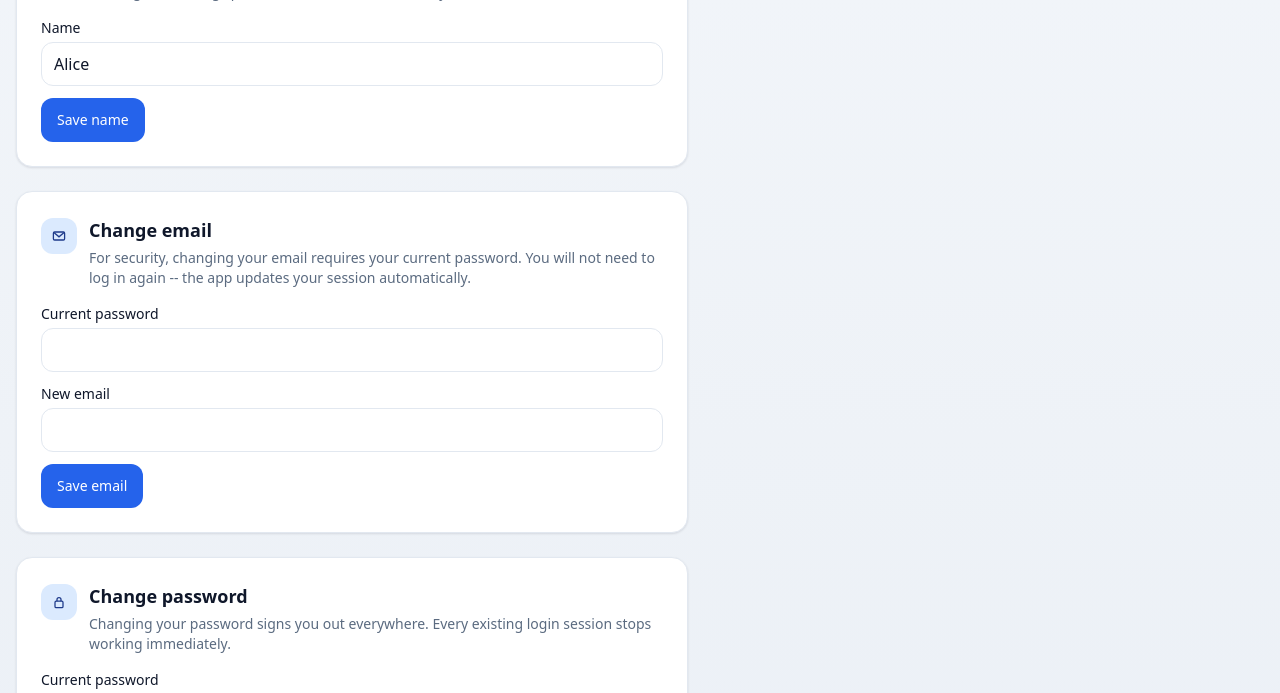
Test: ProfilePage › shows a distinct error for an incorrect current password on email change, and keeps the old session
(page scrolled)
Type "wrong-password" into the password field labelled "Current password" below "Change email" at [352, 350], box [41, 328, 663, 372]
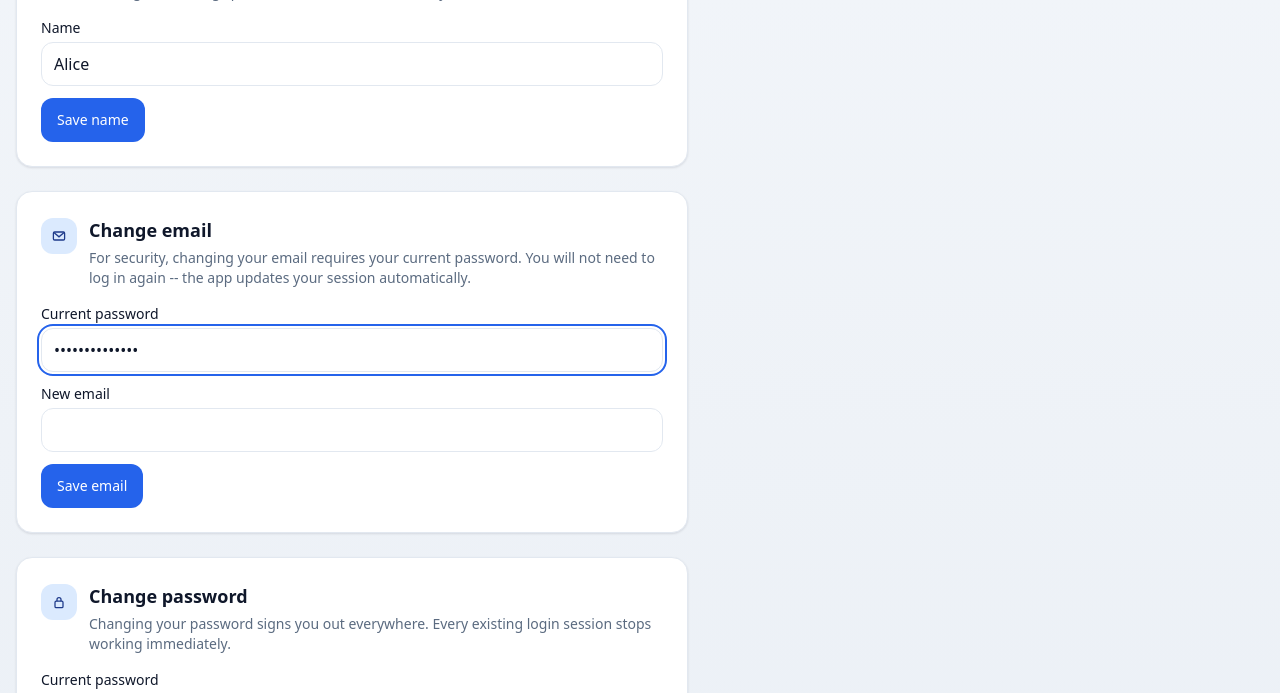
Type "new@example.com" into the field labelled "New email" at [352, 430], box [41, 408, 663, 452]
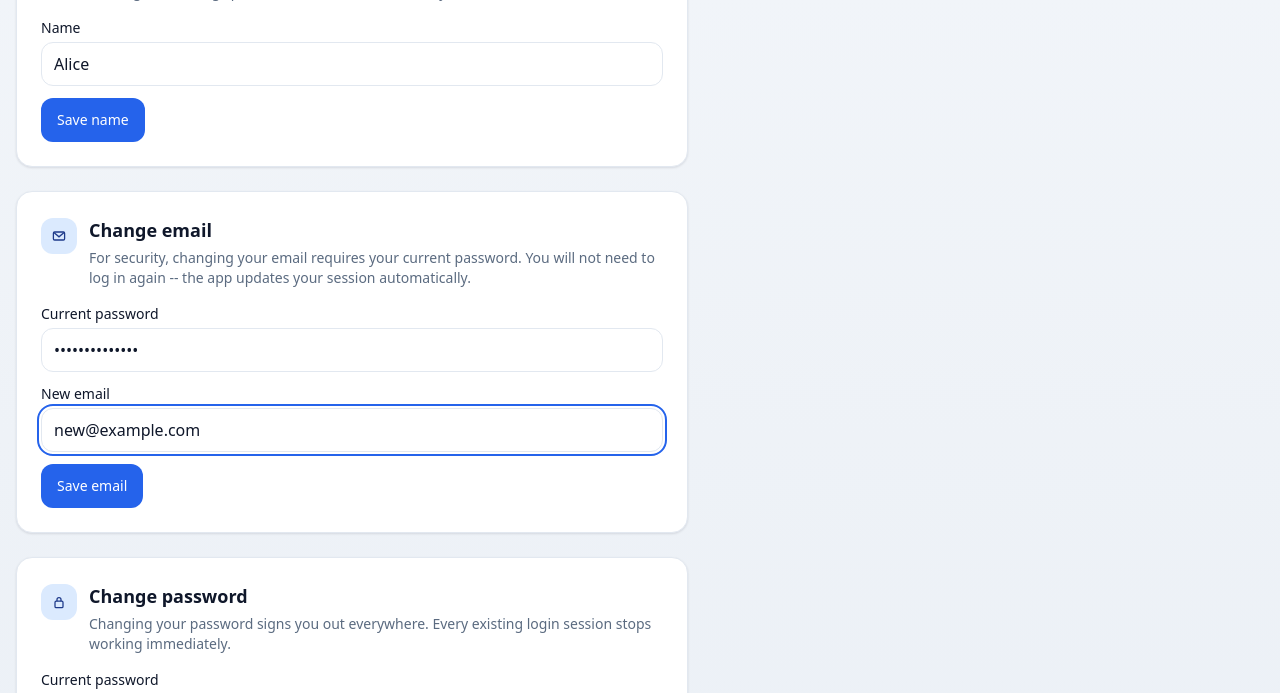
Click the button "Save email" at [92, 486], box [41, 464, 143, 508]
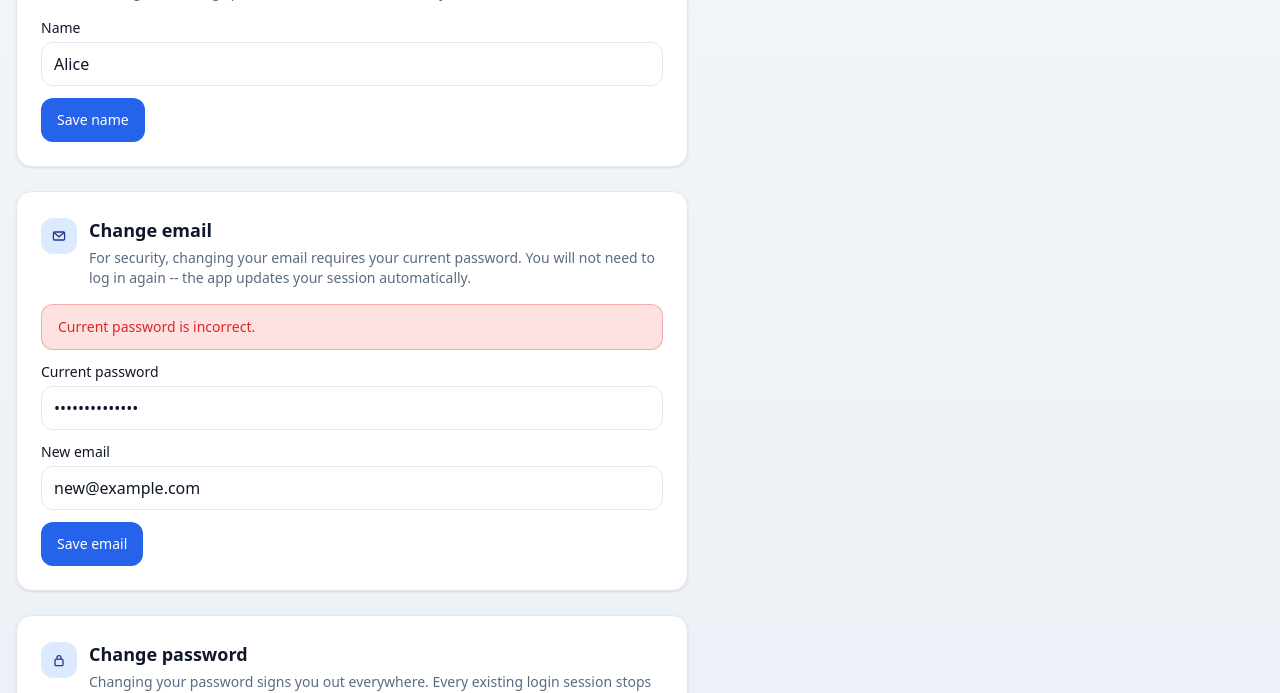
Result: the text "Current password is incorrect." is shown at [58, 317, 255, 336]
